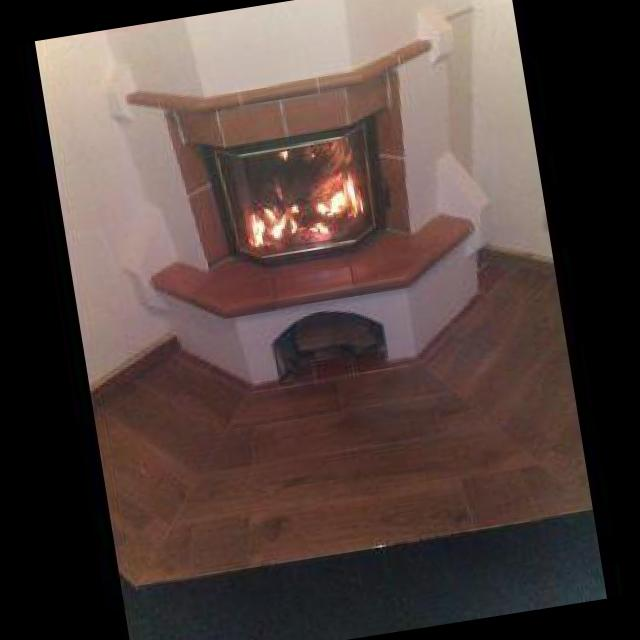Fire: (221, 122, 376, 260)
